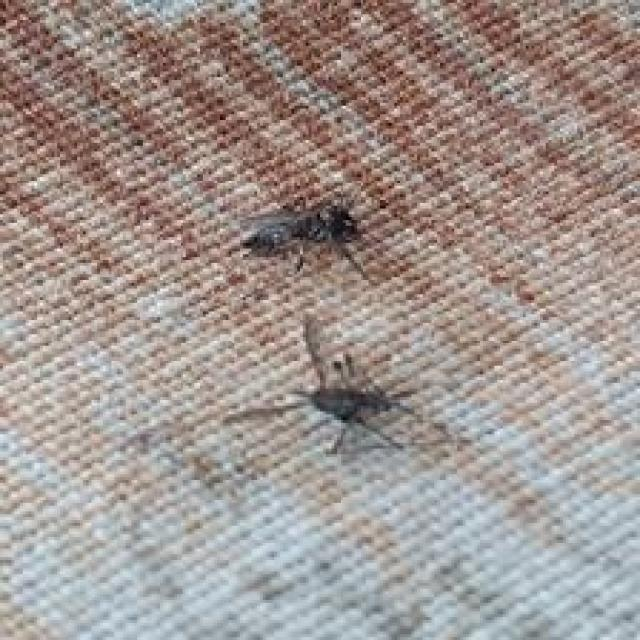Aedes albopictus: (237, 196, 372, 281)
